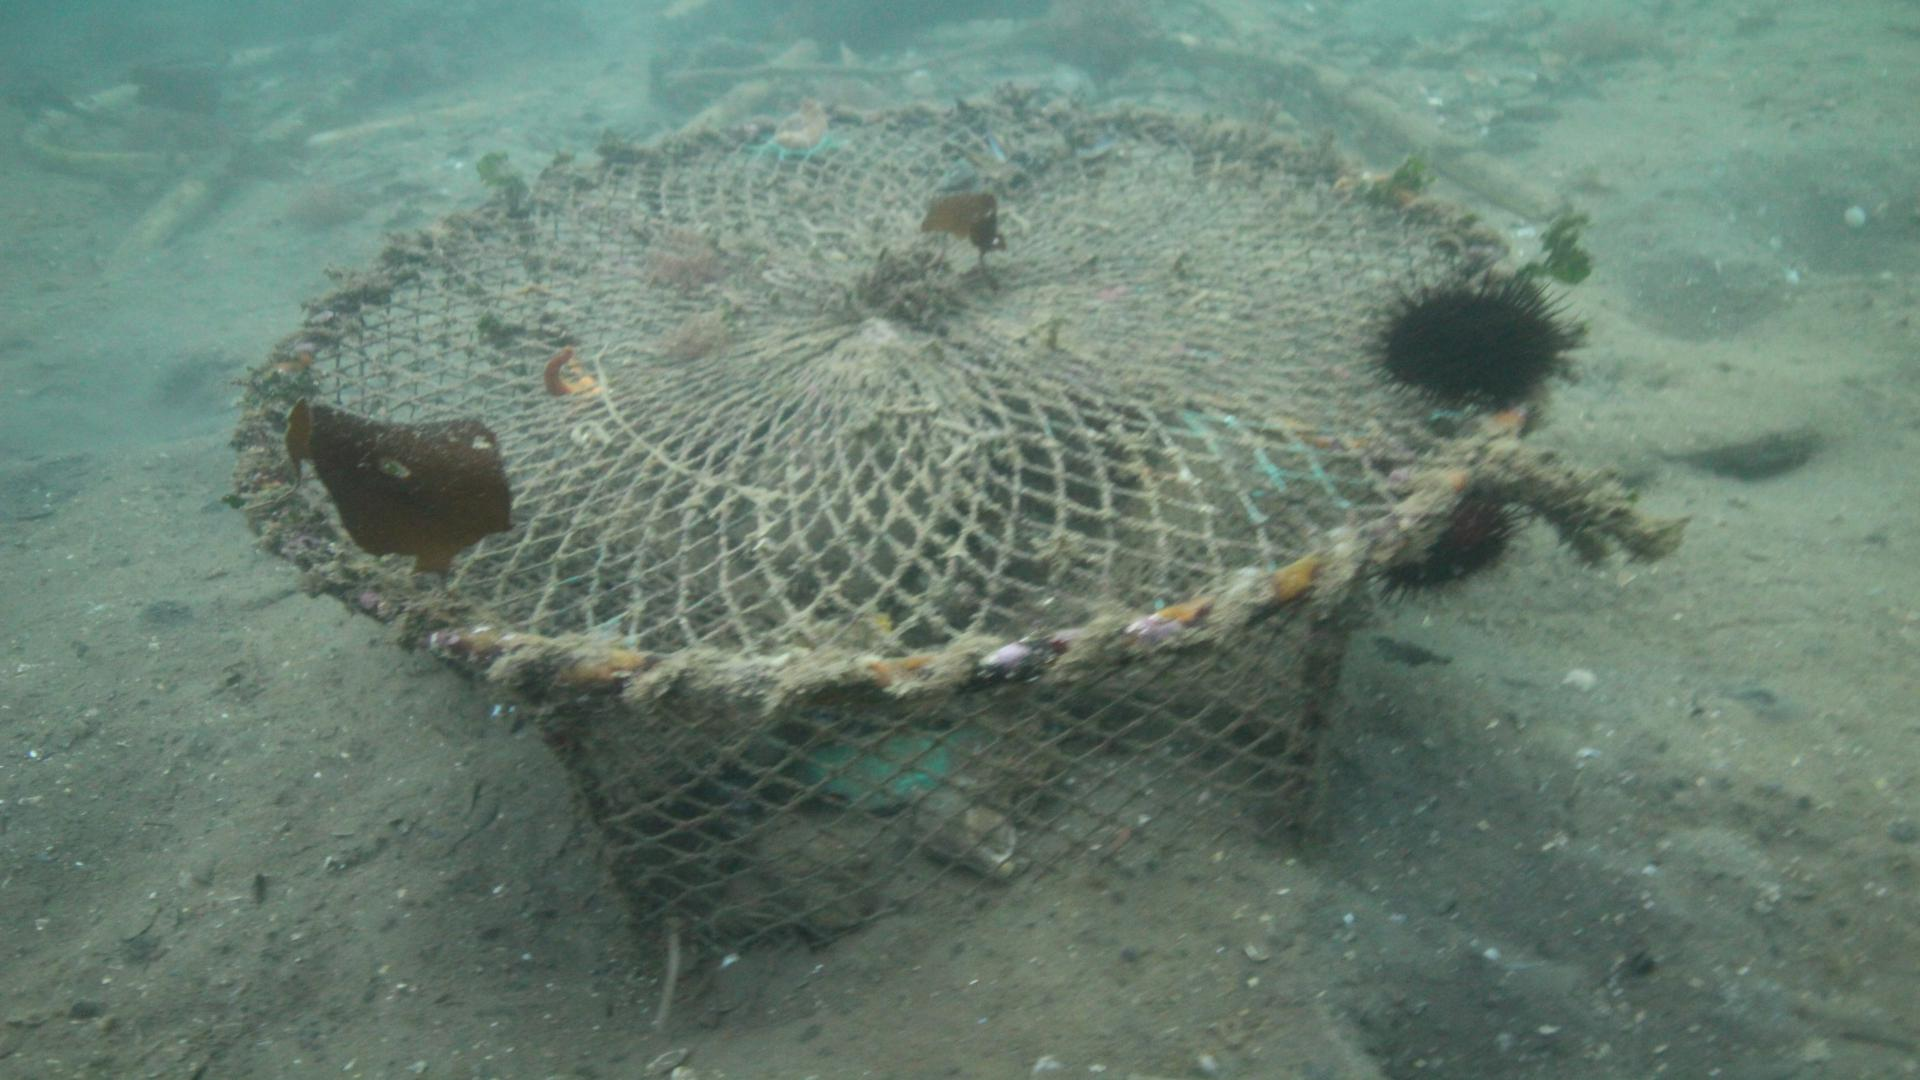circular fish trap: (239, 100, 1536, 989)
